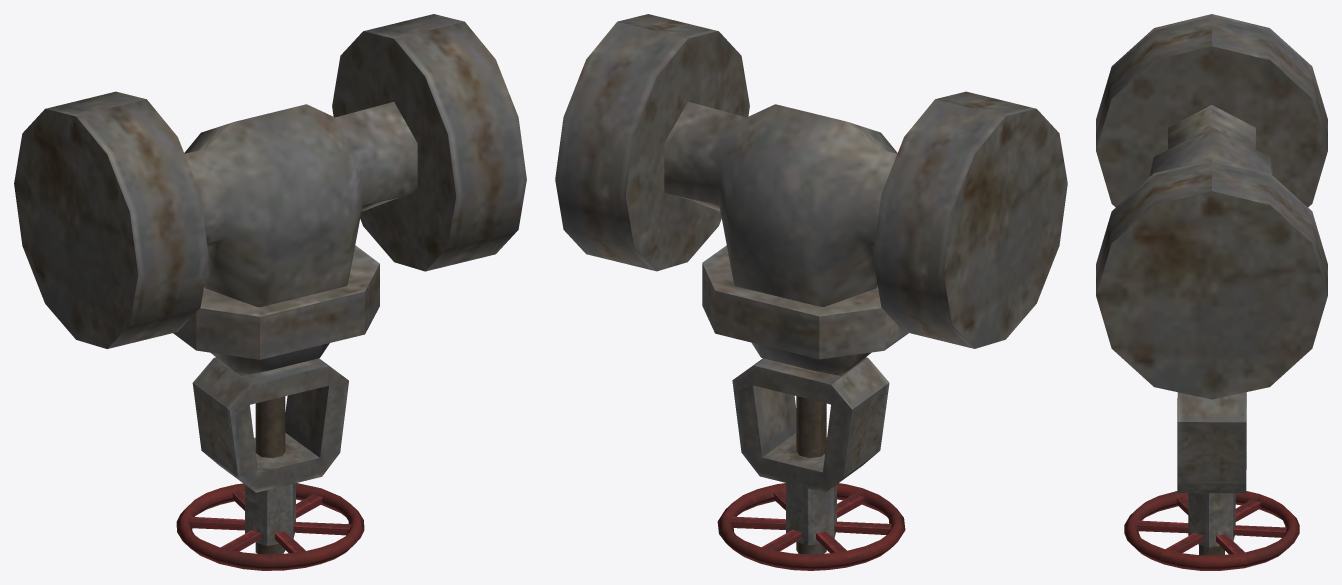
File: nt_2020_pipes_modular_valve_LOD0.obj
The picture shows the model from 3 angles, left to right: view 1: azimuth 30°, elevation 25°; view 2: azimuth 150°, elevation 25°; view 3: azimuth 270°, elevation 25°; orthographic projection. The views are drawn at different scales.
Parts seen in each view (by area): view 1: mtl_nt_2020_pipes_modular_blue; view 2: mtl_nt_2020_pipes_modular_blue; view 3: mtl_nt_2020_pipes_modular_blue.
Part boxes in pixels (box(x1,y1,x2,y2)): mtl_nt_2020_pipes_modular_blue: box(14, 14, 526, 570); mtl_nt_2020_pipes_modular_blue: box(555, 14, 1067, 570); mtl_nt_2020_pipes_modular_blue: box(1096, 14, 1327, 570).
Size of the model in its own units: 94.39 by 112 by 52.22.
